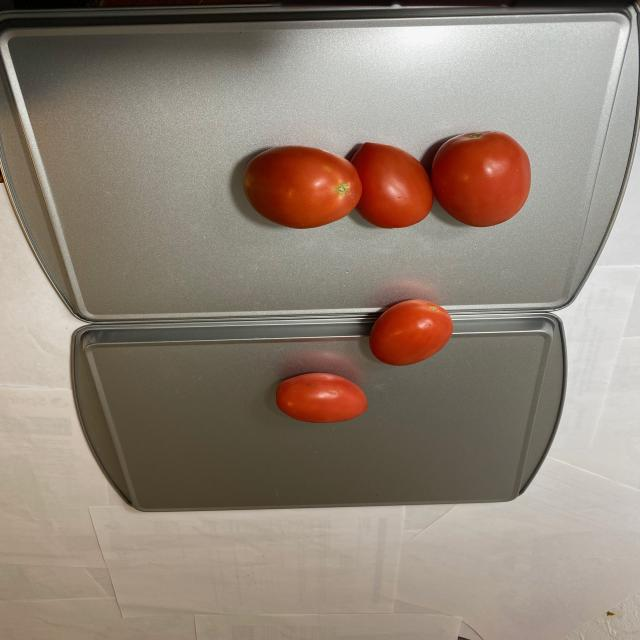tomato: (218, 130, 538, 232), (276, 298, 455, 422)
